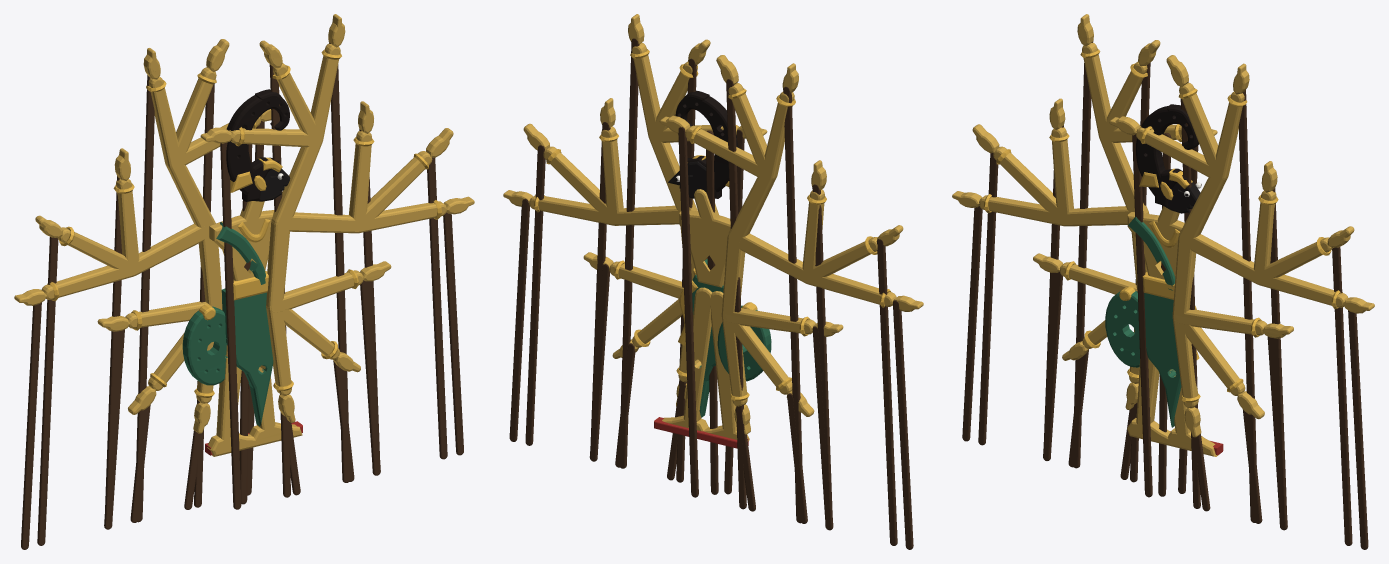
Rendered from rama.glb.
The picture shows the model from 3 angles, left to right: view 1: azimuth 30°, elevation 25°; view 2: azimuth 150°, elevation 25°; view 3: azimuth 330°, elevation 25°; orthographic projection. The views are drawn at different scales.
Parts seen in each view (by area): view 1: body, front_20, back_20, back_10, front_10, front_22, front_11, back_11, head, back_12, front_00, front_02 (+8 smaller); view 2: body, back_20, front_20, back_10, back_22, front_10, front_11, back_21, back_11, back_12, back_00, front_12 (+8 smaller); view 3: body, front_20, back_20, front_10, back_10, front_22, back_11, front_11, head, front_00, front_12, back_02 (+8 smaller).
Part boxes in pixels (x1,y1,x2,y2): body: (182,144,302,504); front_20: (271,14,349,482); back_20: (136,48,215,522); back_10: (14,223,211,549); front_10: (271,196,474,455); front_22: (200,127,316,509); front_11: (358,128,453,459); back_11: (35,215,135,545); head: (226,89,290,201); back_12: (105,148,139,529); front_00: (266,217,300,495); front_02: (266,261,391,475); body: (654,130,771,494); back_20: (728,63,802,523); front_20: (620,14,697,468); back_10: (727,233,923,549); back_22: (659,115,776,497); front_10: (503,190,697,441); front_11: (523,123,609,445); back_21: (716,55,774,509); back_11: (806,225,903,545); back_12: (802,160,832,529); back_00: (721,234,755,511); front_12: (590,98,623,461); body: (1105,132,1223,496); front_20: (1179,63,1256,522); back_20: (1073,14,1148,468); front_10: (1184,234,1374,549); back_10: (952,191,1148,441); front_22: (1109,116,1224,497); back_11: (972,124,1060,445); front_11: (1257,226,1354,545); head: (1136,104,1201,213); front_00: (1172,234,1210,511); front_12: (1253,161,1286,530); back_02: (1033,253,1137,460).
Bounding box in the file's own units: 1.35 × 1.37 × 0.1187.
